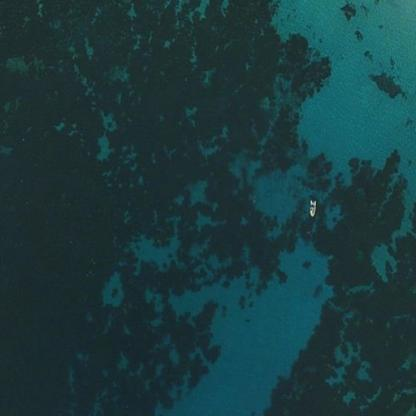ship: (305, 194, 319, 218)
